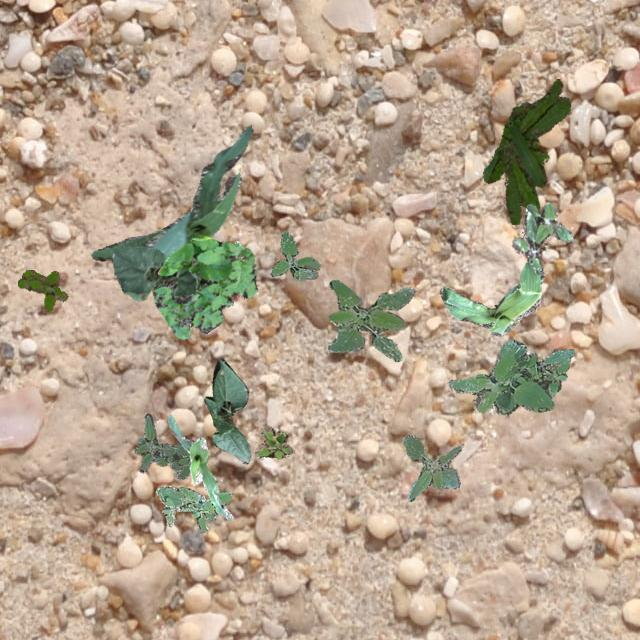crop: (90, 124, 252, 266), (438, 256, 544, 336), (166, 414, 232, 518), (110, 245, 196, 302), (203, 358, 250, 462)
weed: (482, 78, 568, 224), (152, 235, 256, 338), (448, 338, 574, 413), (328, 278, 414, 360), (512, 202, 572, 272), (154, 484, 232, 534), (400, 434, 460, 499), (133, 412, 190, 478), (268, 230, 320, 280), (17, 268, 66, 310), (254, 424, 292, 458)
